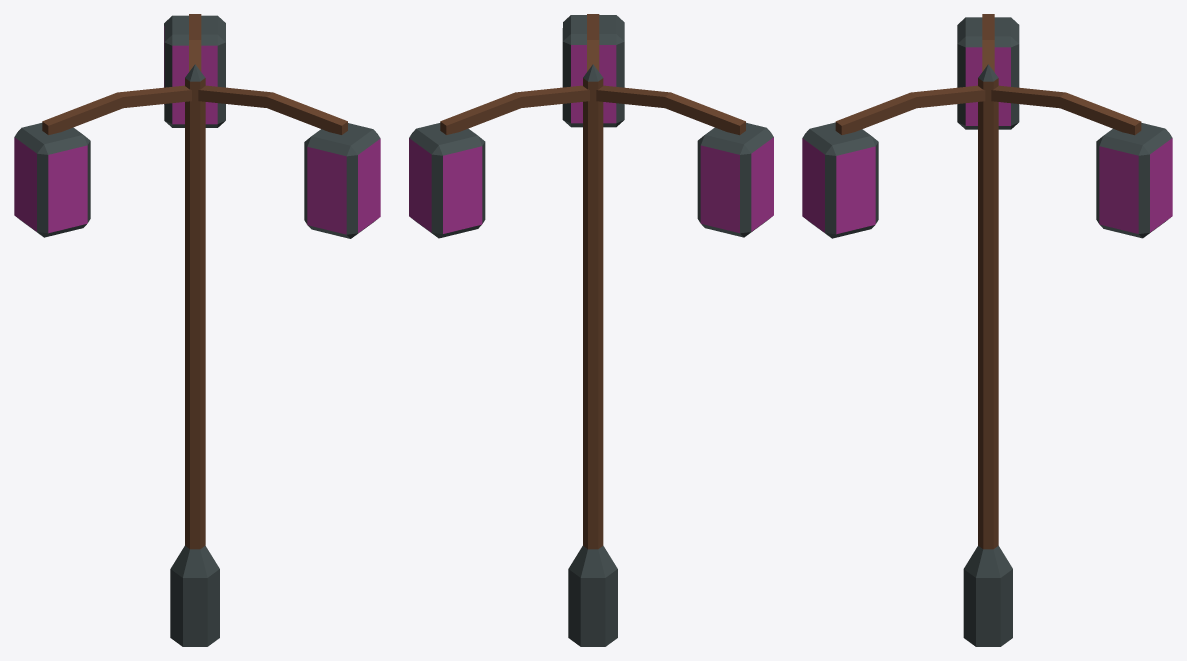
Rendered from Lamp_7_Purple.fbx.
The picture shows the model from 3 angles, left to right: view 1: azimuth 30°, elevation 25°; view 2: azimuth 150°, elevation 25°; view 3: azimuth 270°, elevation 25°; orthographic projection.
Visible parts, largest first — view 1: Lamp_7_Purple; view 2: Lamp_7_Purple; view 3: Lamp_7_Purple.
Boxes of the visible parts, <box> form: Lamp_7_Purple: <box>14,14,380,646</box>; Lamp_7_Purple: <box>409,14,773,646</box>; Lamp_7_Purple: <box>802,14,1172,646</box>.
Size of the model in its own units: 155 by 307 by 180.
